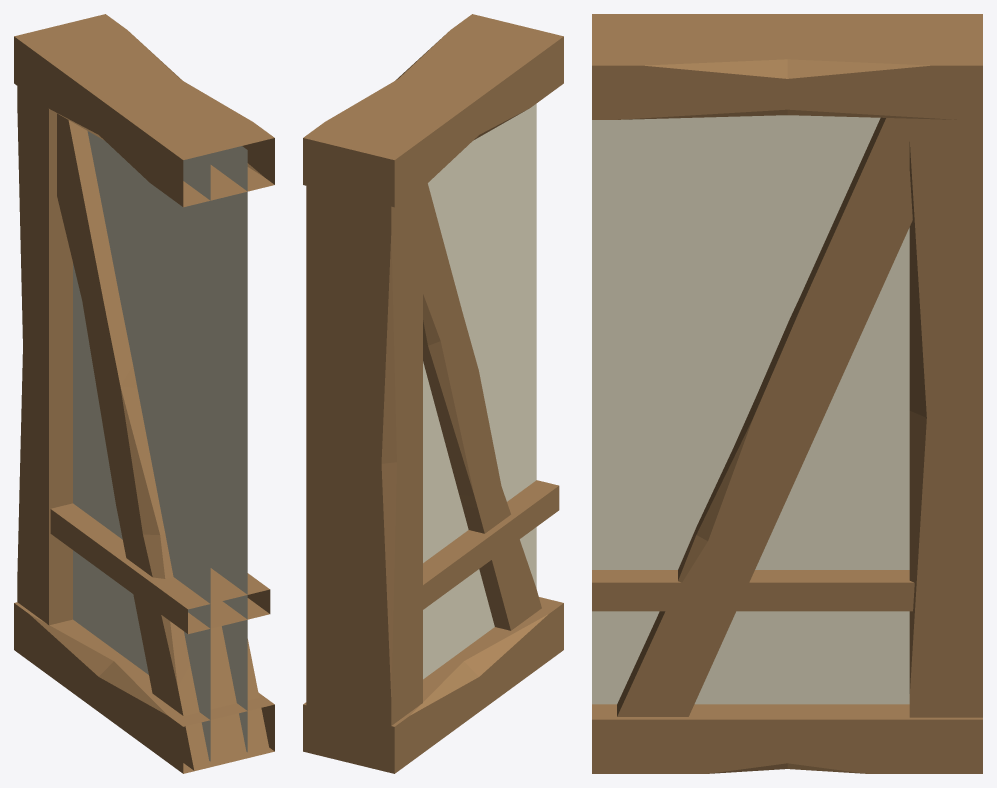
Rendered from SFV_Wall_Wooden_S_006.fbx.
3 renders of one model, left to right at view 1: azimuth 30°, elevation 25°; view 2: azimuth 150°, elevation 25°; view 3: azimuth 270°, elevation 25°, orthographic. The views are drawn at different scales.
Parts seen in each view (by area): view 1: SFV_Wall_Wooden_S_006; view 2: SFV_Wall_Wooden_S_006; view 3: SFV_Wall_Wooden_S_006.
Boxes of the visible parts, left/top/right/bottom form: SFV_Wall_Wooden_S_006: left=14, top=14, right=274, bottom=773; SFV_Wall_Wooden_S_006: left=303, top=14, right=563, bottom=773; SFV_Wall_Wooden_S_006: left=592, top=14, right=982, bottom=773.
Size of the model in its own units: 46.87 by 300 by 150.
